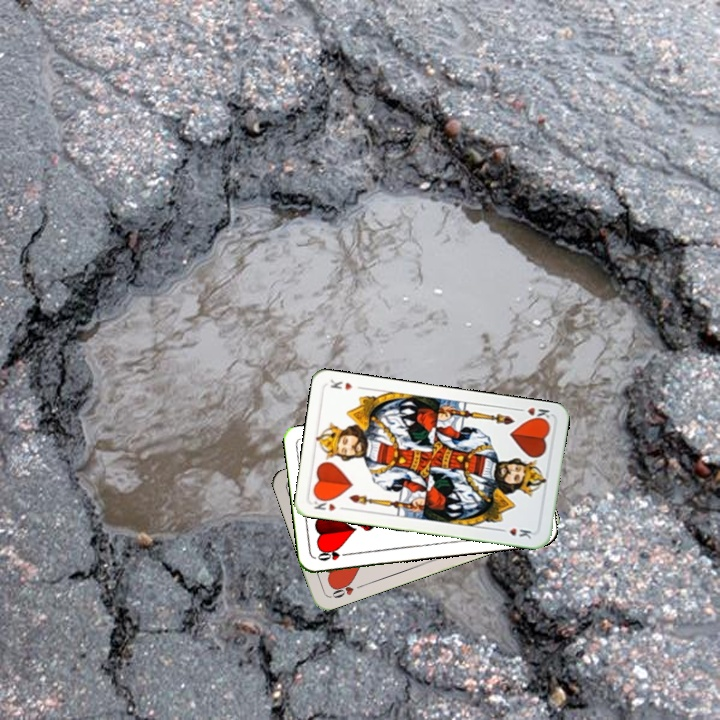HK: (513, 403, 552, 425), (310, 493, 349, 514)
HO: (327, 577, 366, 601), (313, 546, 353, 563)
